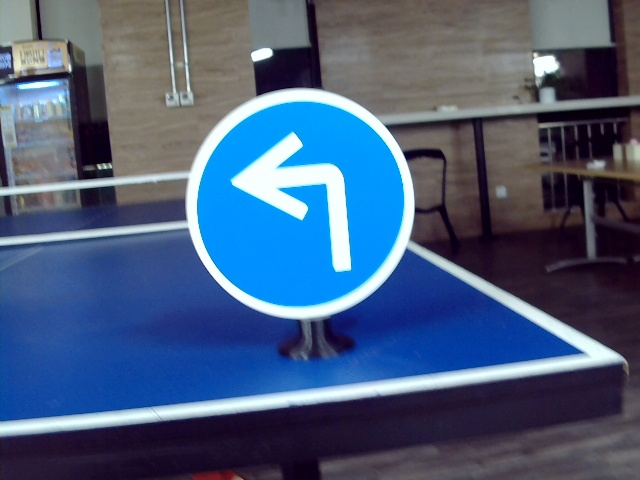turn_left: (231, 125, 363, 274)
